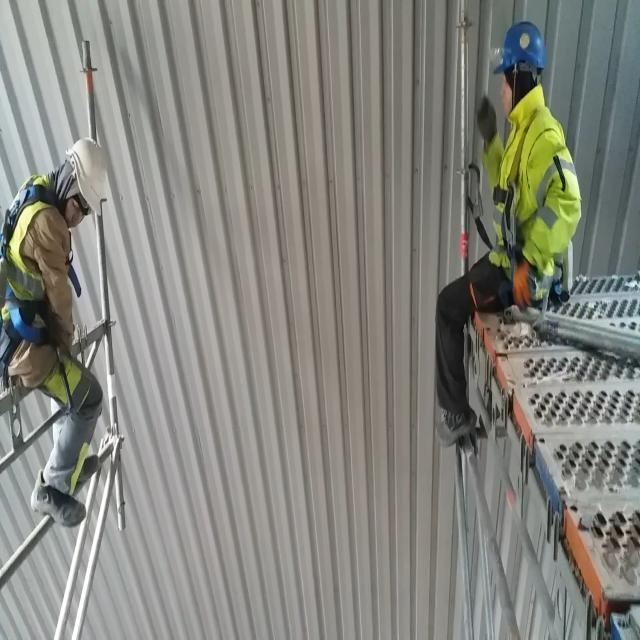Arnes_seguridad: (0, 166, 89, 380), (485, 109, 547, 274)
